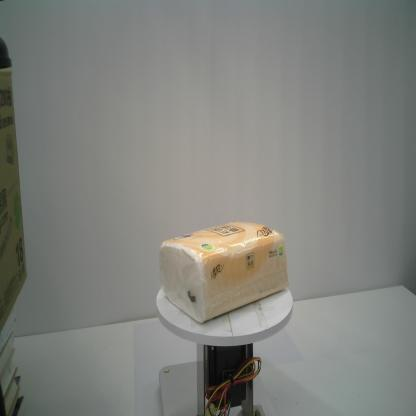Tissue: (156, 218, 290, 326)
